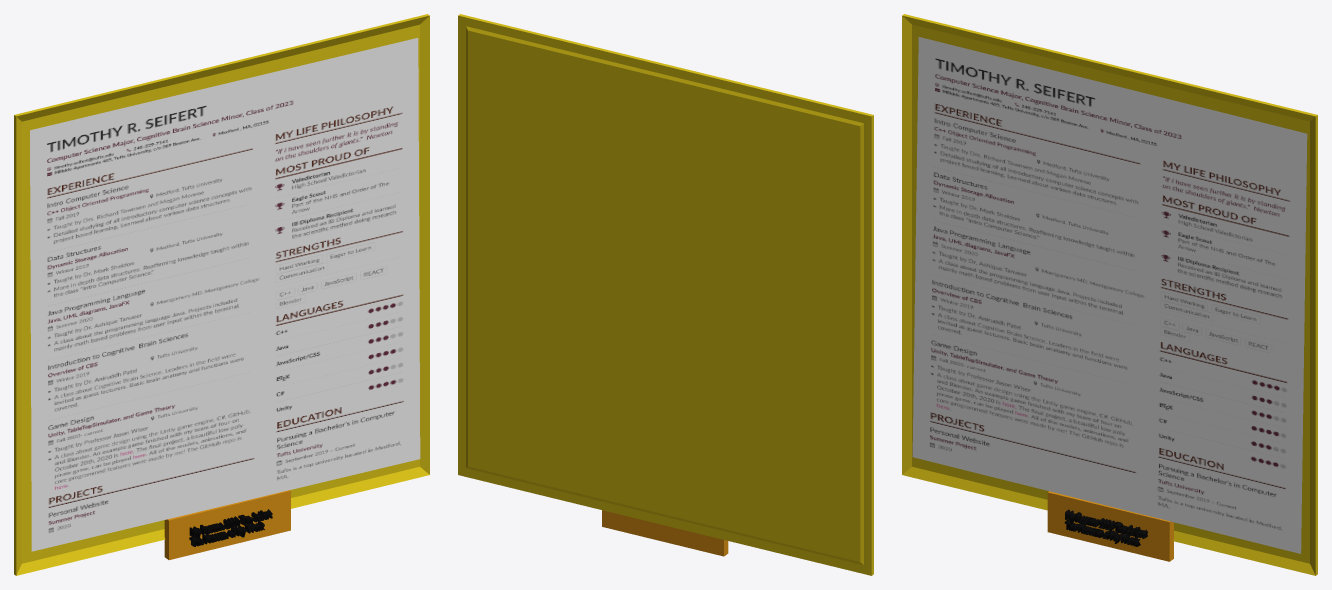
The model's file is painting.glb.
3 views of the same model, side by side, from view 1: azimuth 30°, elevation 25°; view 2: azimuth 150°, elevation 25°; view 3: azimuth 330°, elevation 25° (orthographic).
Parts seen in each view (by area): view 1: Screen Shot 2021-01-07 at 1.57.38 PM, Cube, Cube.001, Text; view 2: Cube, Cube.001; view 3: Screen Shot 2021-01-07 at 1.57.38 PM, Cube, Cube.001, Text.
Boxes of the visible parts, x1,y1,x2,y2 form: Screen Shot 2021-01-07 at 1.57.38 PM: (30,38,420,551); Cube: (14,14,429,575); Cube.001: (164,490,290,559); Text: (189,509,272,546); Cube: (458,14,873,575); Cube.001: (602,510,728,556); Screen Shot 2021-01-07 at 1.57.38 PM: (912,37,1307,553); Cube: (902,14,1317,575); Cube.001: (1047,491,1173,561); Text: (1064,509,1147,546).
Bounding box in the file's own units: 61.33 × 67.65 × 2.66.
4 materials, 1 textured.
